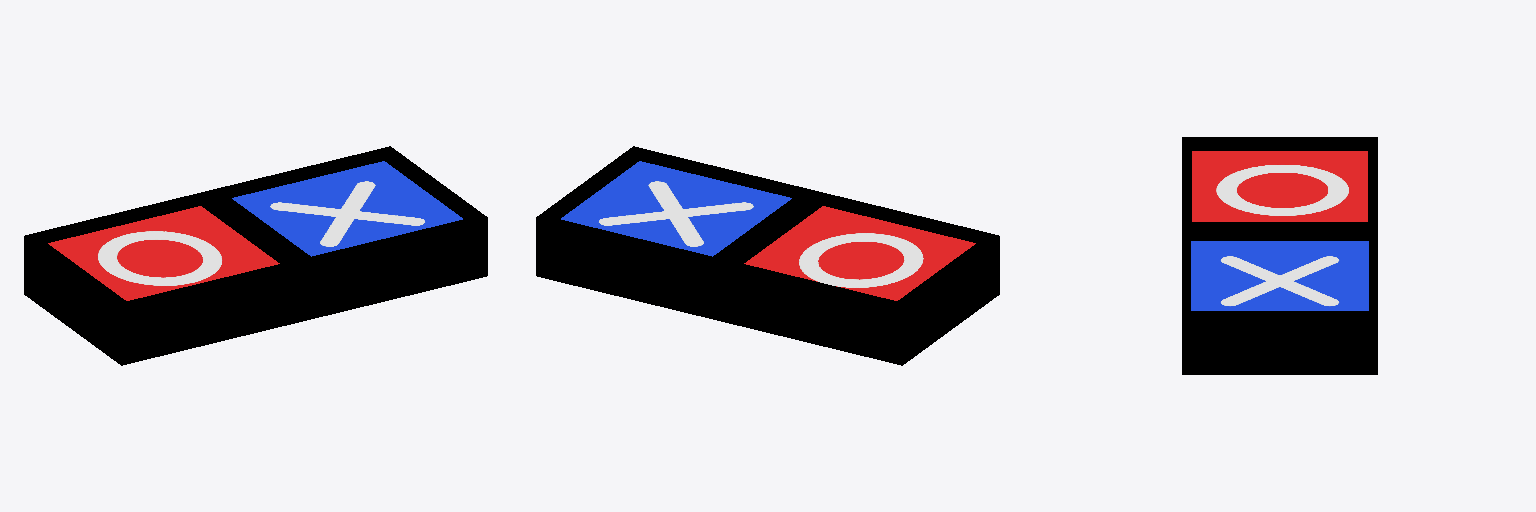
3 renders of one model, left to right at view 1: azimuth 30°, elevation 25°; view 2: azimuth 150°, elevation 25°; view 3: azimuth 270°, elevation 25°, orthographic.
Visible parts, largest first — view 1: 立方体, 立方体.002_立方体.001, 立方体.001_立方体.004; view 2: 立方体, 立方体.002_立方体.001, 立方体.001_立方体.004; view 3: 立方体, 立方体.001_立方体.004, 立方体.002_立方体.001.
Part boxes in pixels (x1,y1,x2,y2): 立方体: (24,146,487,365); 立方体.002_立方体.001: (232,161,462,256); 立方体.001_立方体.004: (48,206,279,300); 立方体: (536,146,999,365); 立方体.002_立方体.001: (561,161,791,256); 立方体.001_立方体.004: (744,206,975,300); 立方体: (1182,137,1377,374); 立方体.001_立方体.004: (1192,151,1367,221); 立方体.002_立方体.001: (1191,241,1368,310).
Bounding box in the file's own units: 12.07 × 1.84 × 5.57.
3 materials, 1 textured.